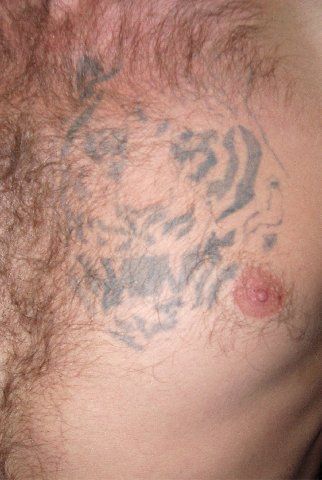tatu5_tigr: (62, 55, 290, 344)
